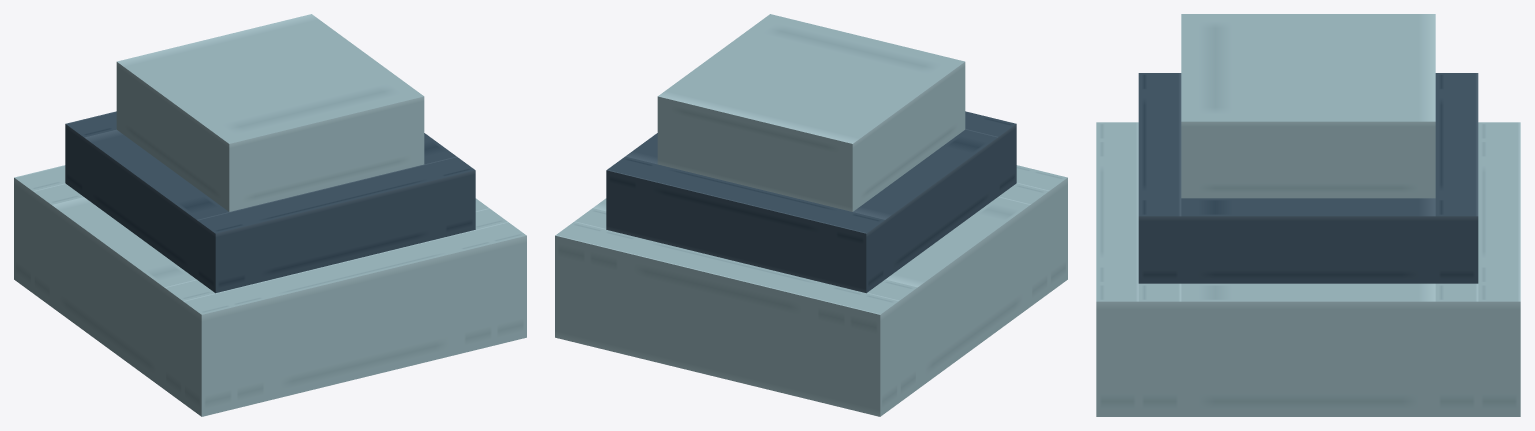
File: sc_mount_titanium_hull.obj
3 renders of one model, left to right at view 1: azimuth 30°, elevation 25°; view 2: azimuth 150°, elevation 25°; view 3: azimuth 270°, elevation 25°, orthographic. The views are drawn at different scales.
Size of the model in its own units: 4 by 2.7 by 4.
1 material, 1 textured.
